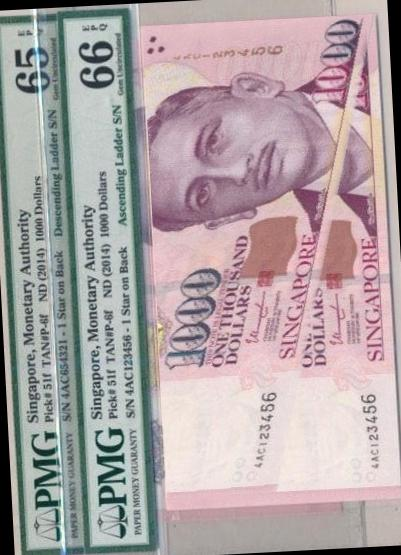1000SingaporeDollar: (142, 14, 401, 508)
